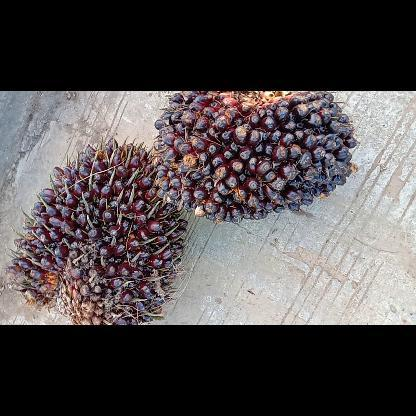TBS mentah: (7, 138, 187, 306), (153, 91, 356, 219)
